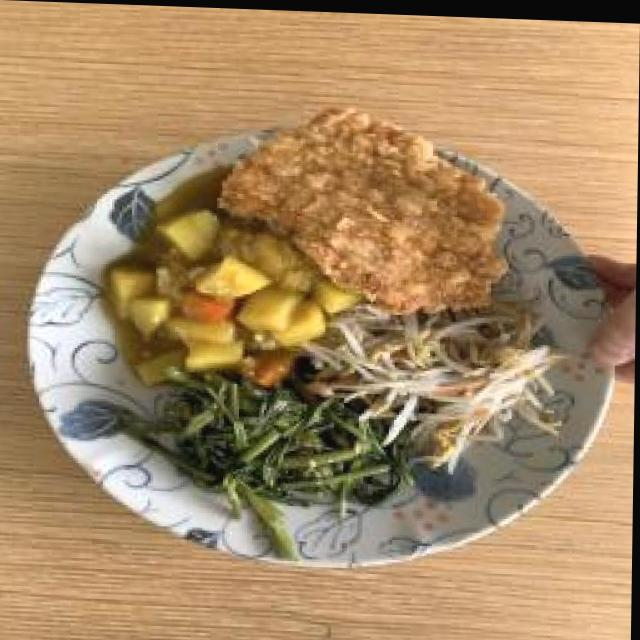curry: (116, 243, 307, 359)
fried_chicken: (240, 105, 512, 306)
mung_bean_sprouts: (365, 316, 529, 424)
water_spinach: (169, 378, 384, 507)
